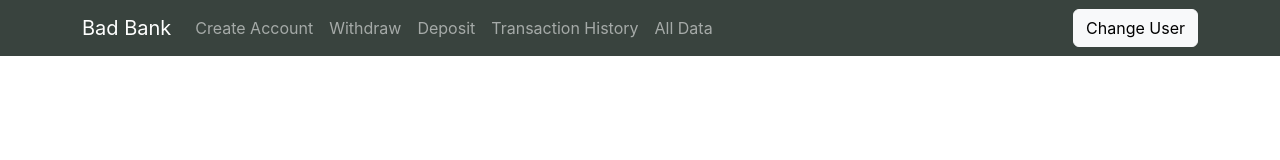
Scenario: displays nav bar tooltips › renders Create Account nav tooltip
Hover over the link "Create Account" at (254,28), box [195,18,313,38]
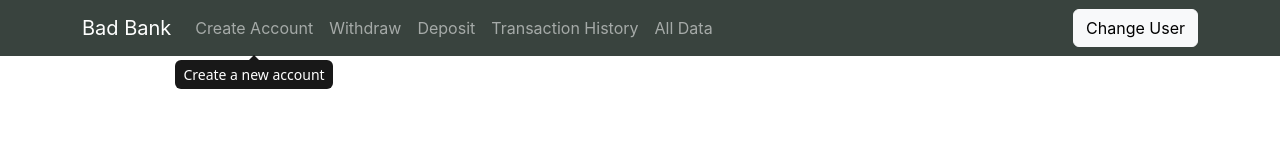
Result: the text "Create a new account" is shown at [175,60,333,89]
